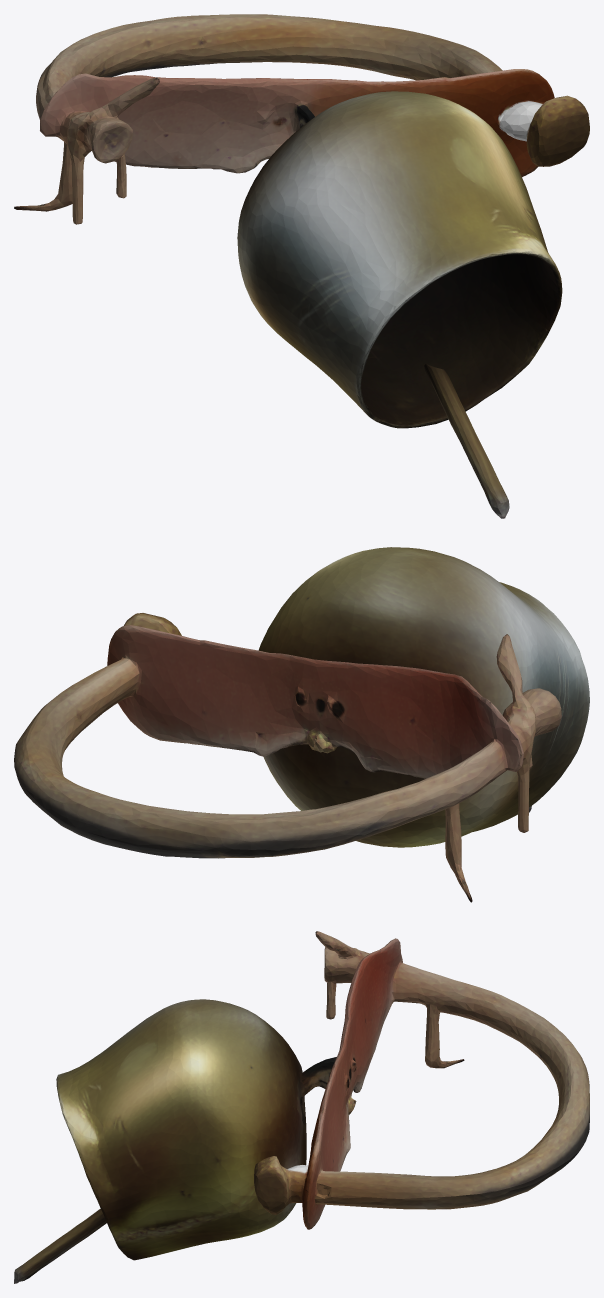
File: koudouna.fbx
3 views of the same model, one above another, from view 1: azimuth 30°, elevation 25°; view 2: azimuth 150°, elevation 25°; view 3: azimuth 270°, elevation 25° (orthographic). The views are drawn at different scales.
Visible parts, largest first — view 1: world; view 2: world; view 3: world.
Part boxes in pixels (left/top/right/bottom): world: left=14, top=14, right=589, bottom=518; world: left=14, top=547, right=589, bottom=902; world: left=14, top=931, right=589, bottom=1283.
Bounding box in the file's own units: 77.12 × 54.99 × 99.98.
Materials: 1 (1 with a texture image).
